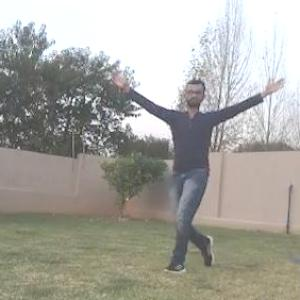takeoff: (154, 84, 299, 271)
